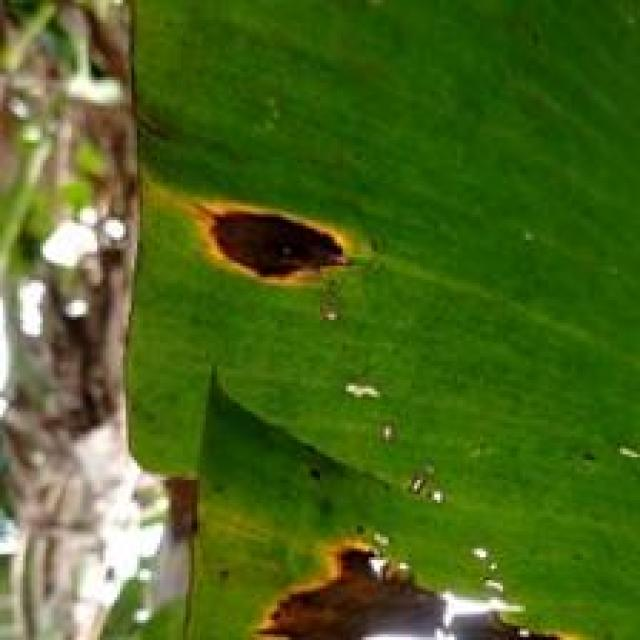Bacterial_spot: (257, 494, 569, 640), (164, 173, 359, 310), (390, 452, 454, 518), (333, 374, 392, 414)
